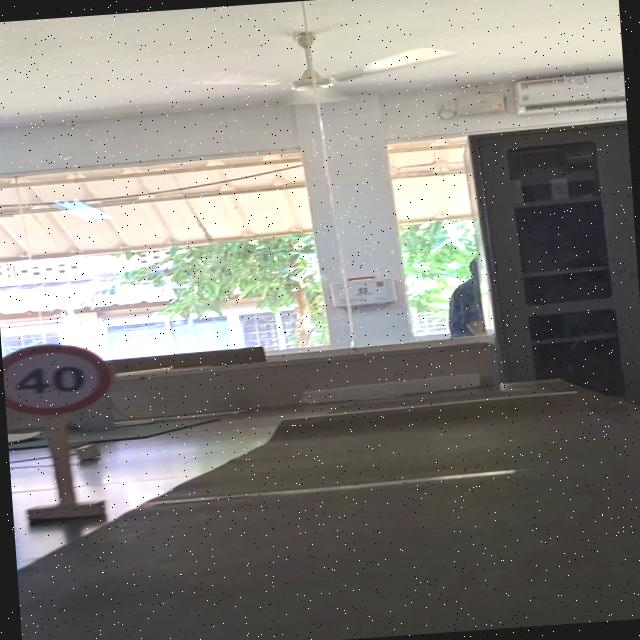Speed40: (1, 338, 118, 420)
